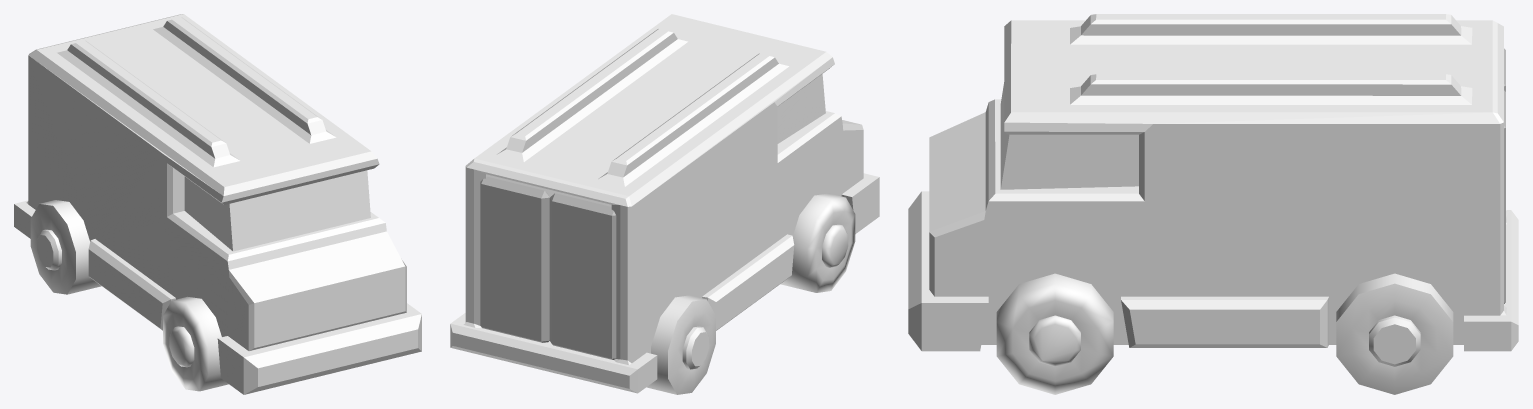
Rendered from survival car 1.fbx.
3 renders of one model, left to right at view 1: azimuth 30°, elevation 25°; view 2: azimuth 150°, elevation 25°; view 3: azimuth 270°, elevation 25°, orthographic. The views are drawn at different scales.
Visible parts, largest first — view 1: CarBody, Wheels1, Wheels; view 2: CarBody, CarDoor, CarDoor1, Wheels, Wheels1; view 3: CarBody, Wheels, Wheels1.
Part boxes in pixels (x1,y1,x2,y2): CarBody: (14,14,421,394); Wheels1: (30,200,101,294); Wheels: (163,296,228,391); CarBody: (450,14,879,393); CarDoor: (480,176,549,342); CarDoor1: (549,193,616,359); Wheels: (780,193,855,292); Wheels1: (646,295,715,394); CarBody: (908,14,1518,351); Wheels: (996,273,1113,394); Wheels1: (1336,273,1453,394).
Size of the model in its own units: 169 by 176 by 338.
